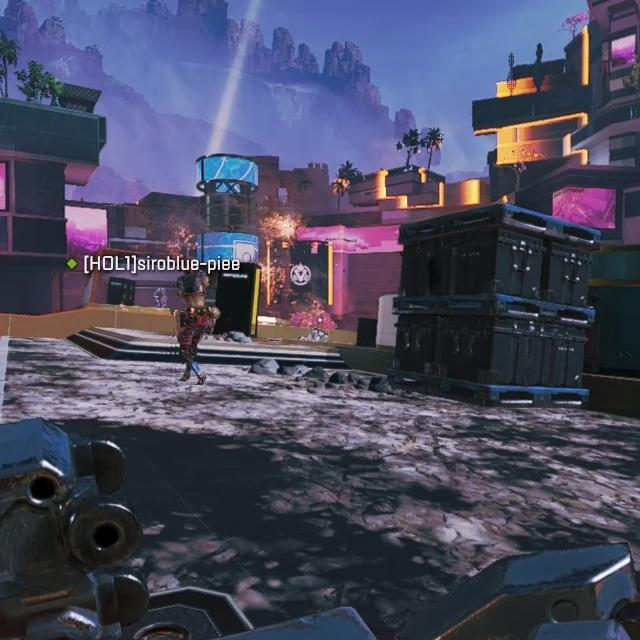avatar: (170, 270, 222, 386)
